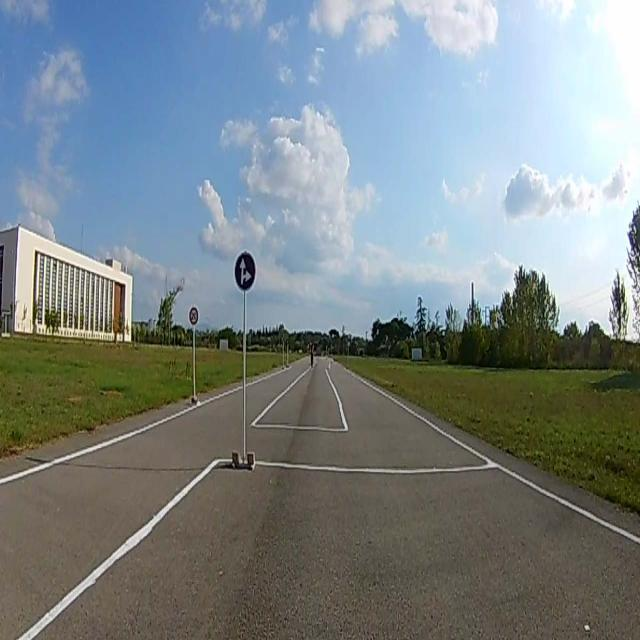ilerisag: (233, 252, 256, 290)
